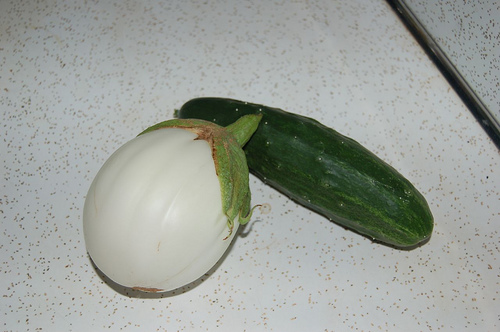cucumber: (171, 94, 436, 251)
